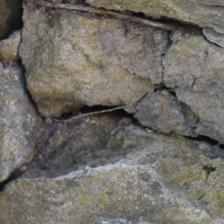Crack: (0, 65, 86, 156), (50, 24, 110, 90), (32, 54, 104, 101), (25, 150, 100, 177)
